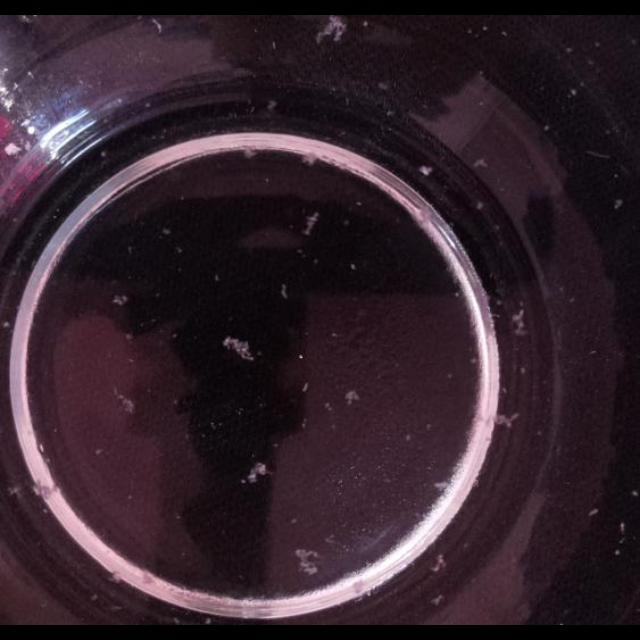Fibre: (317, 15, 348, 43), (222, 335, 254, 361), (294, 548, 322, 576), (114, 388, 136, 414), (245, 462, 269, 484), (510, 308, 528, 336), (302, 212, 320, 236), (428, 554, 446, 574), (111, 293, 127, 305), (472, 158, 488, 170), (280, 283, 288, 299)
microbeads: (494, 412, 518, 428), (344, 389, 360, 405), (419, 164, 433, 176), (432, 594, 444, 606), (614, 198, 624, 210), (266, 100, 278, 110), (377, 81, 389, 91), (476, 200, 486, 210), (162, 227, 172, 236), (301, 382, 309, 393), (174, 244, 183, 253), (0, 321, 10, 329), (589, 508, 599, 516), (126, 332, 134, 342), (38, 443, 46, 453), (405, 433, 413, 442), (95, 447, 104, 455), (323, 402, 331, 411), (620, 522, 626, 534), (350, 263, 358, 271), (469, 357, 477, 365), (290, 517, 298, 525), (569, 88, 577, 96), (500, 30, 508, 38), (214, 272, 220, 282), (520, 364, 526, 374), (454, 291, 461, 299), (565, 46, 573, 52), (544, 124, 550, 132), (614, 550, 622, 556), (635, 489, 640, 497)
